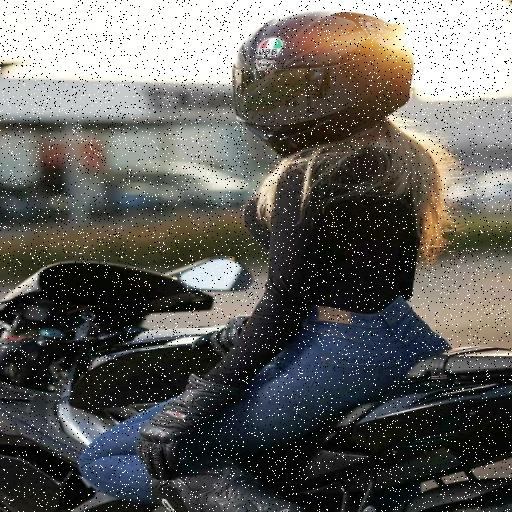Helmet: (248, 18, 424, 156)
Motor: (0, 252, 512, 512)
